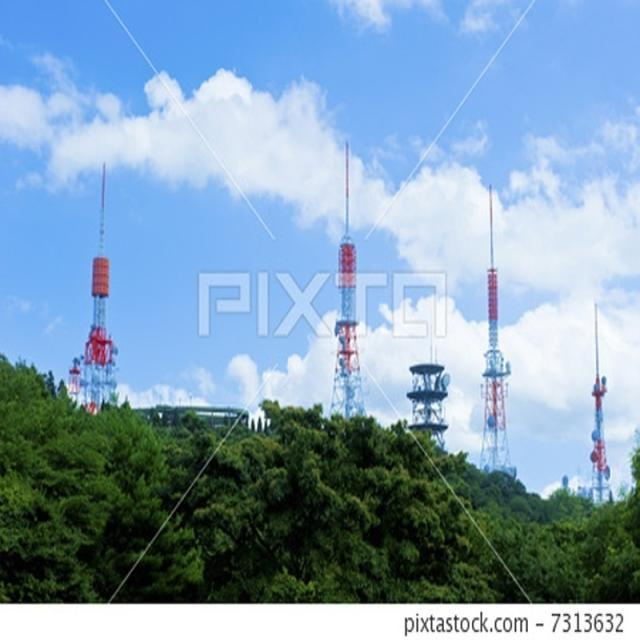non-critical vegetation: (326, 165, 386, 412), (474, 203, 530, 467), (558, 306, 622, 480)
